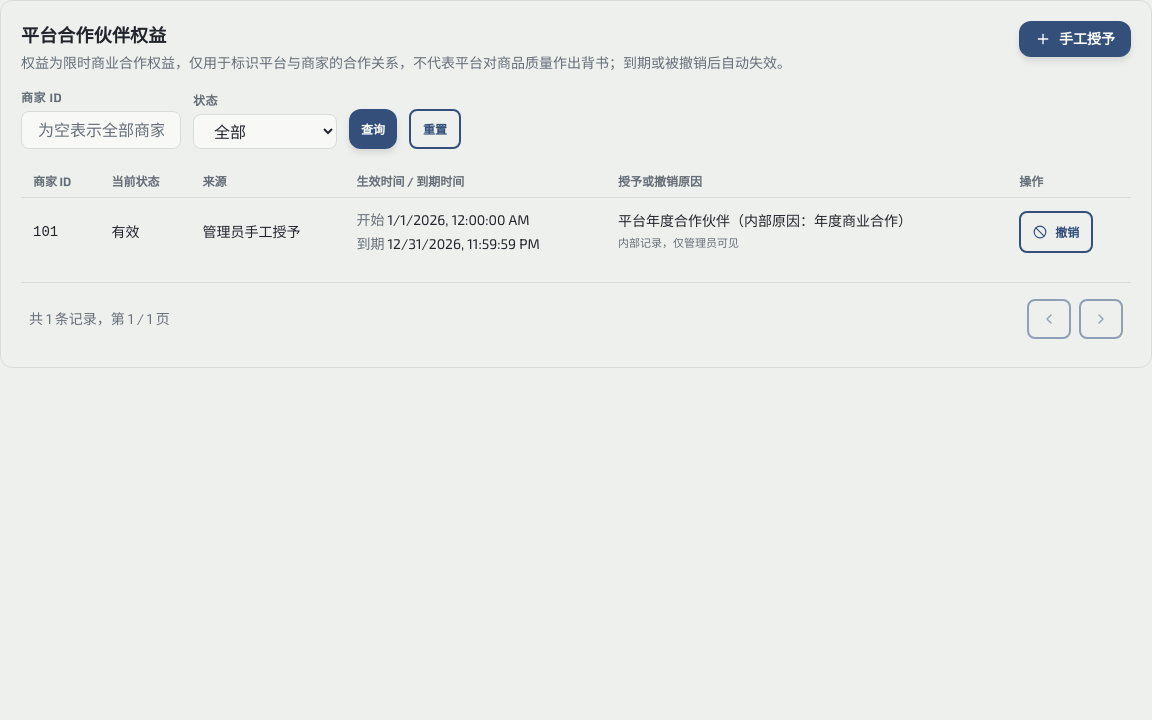
Test case: AdminEntitlementManager › requires a revoke reason, prevents duplicate revokes, and refreshes after success
Expected: the table named "商家权益列表" is shown, [21,165,1131,266]
Click the button with aria-label "撤销商家 101 的权益": (1056, 232) [1019,211,1093,253]
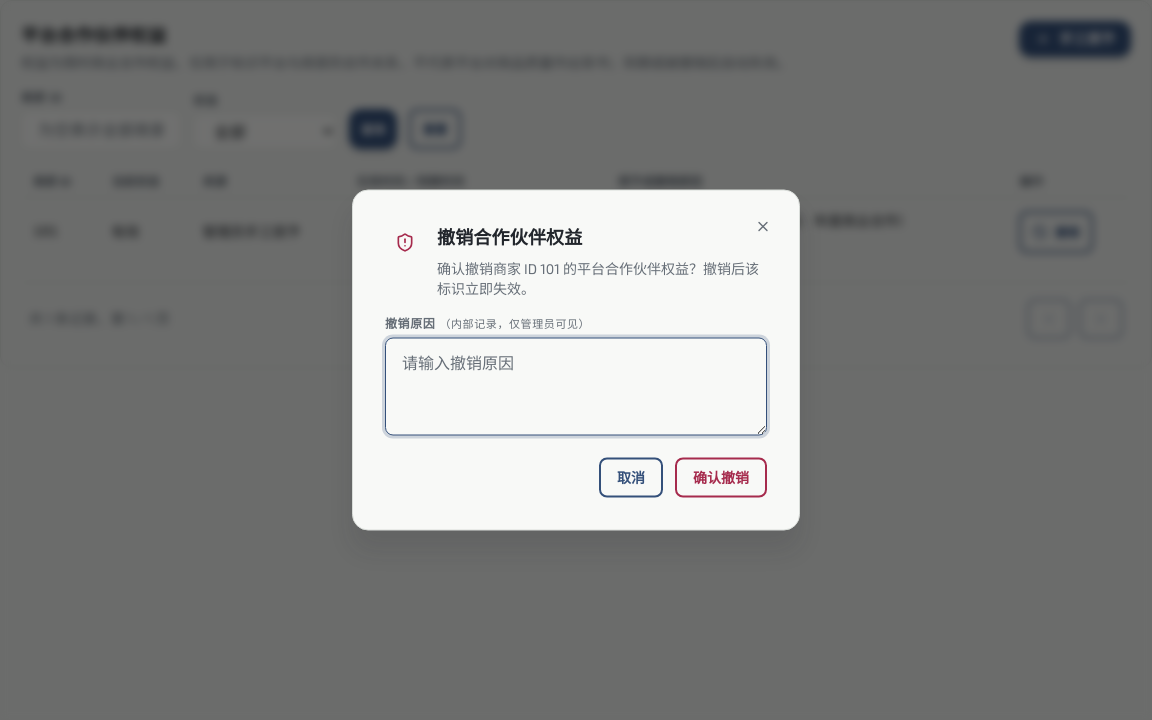
Click the button "确认撤销": (721, 478) [675,458,767,498]
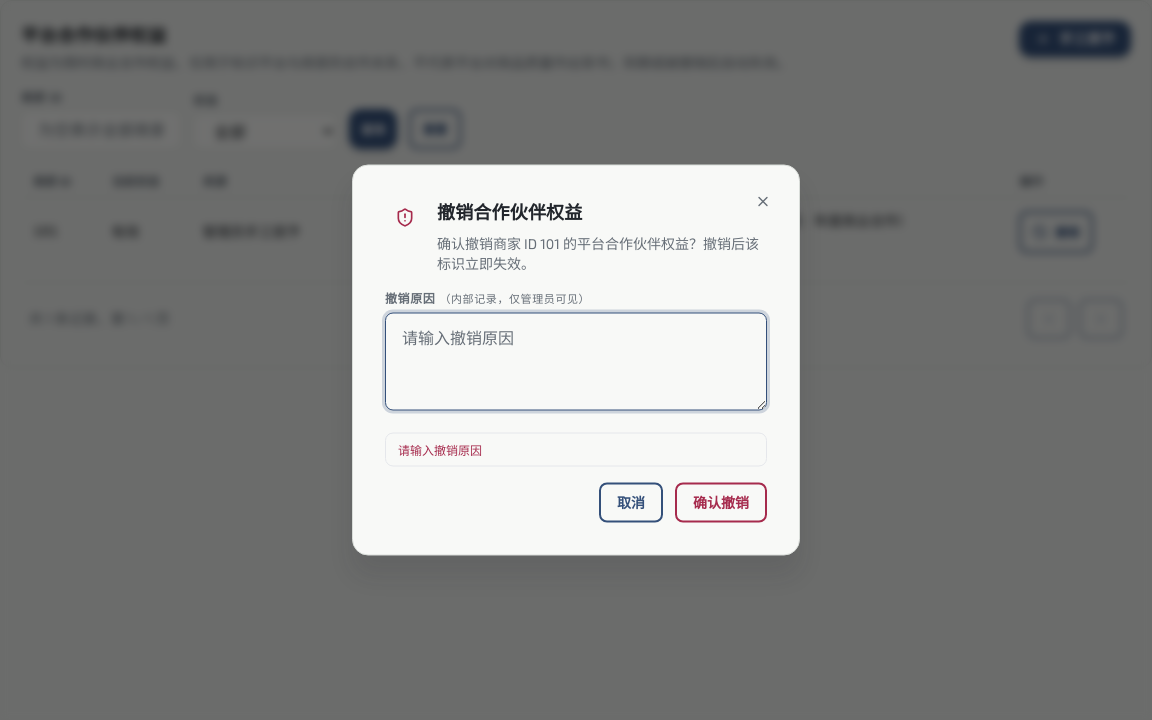
Expected: the message reads "请输入撤销原因", [398,442,482,456]
In the text box labelled "撤销原因": (576, 362) [385,312,767,410], type "  合作计划结束  "
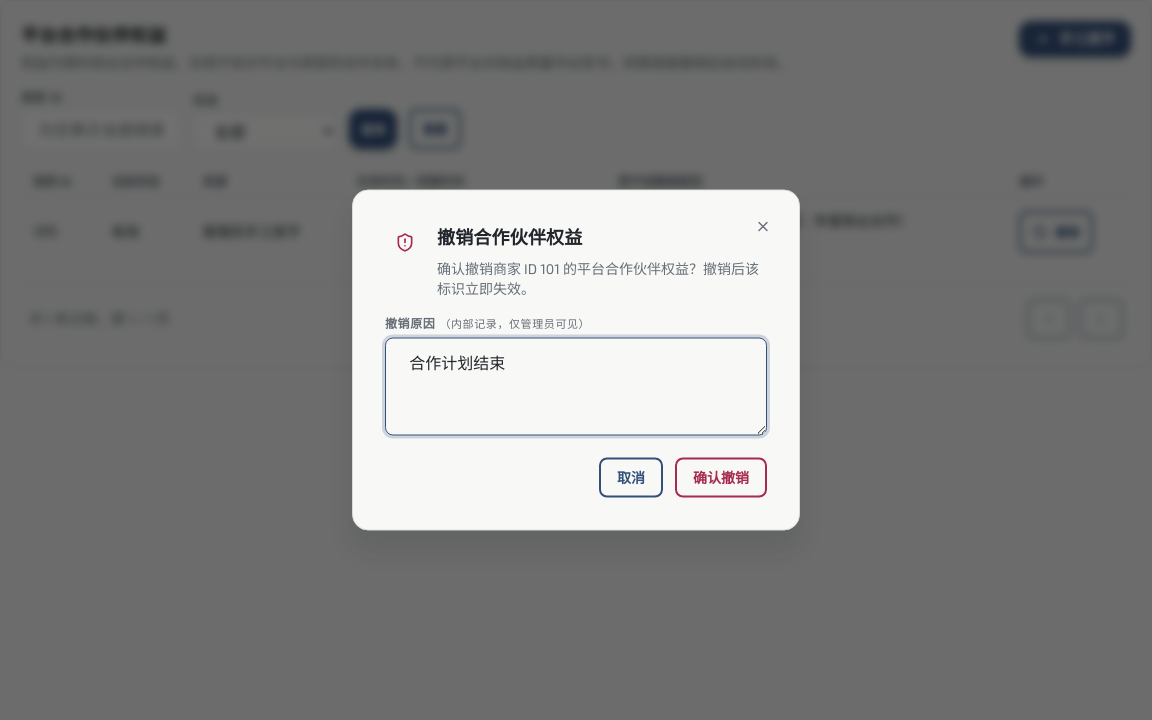
Click the button "确认撤销": (721, 478) [675,458,767,498]
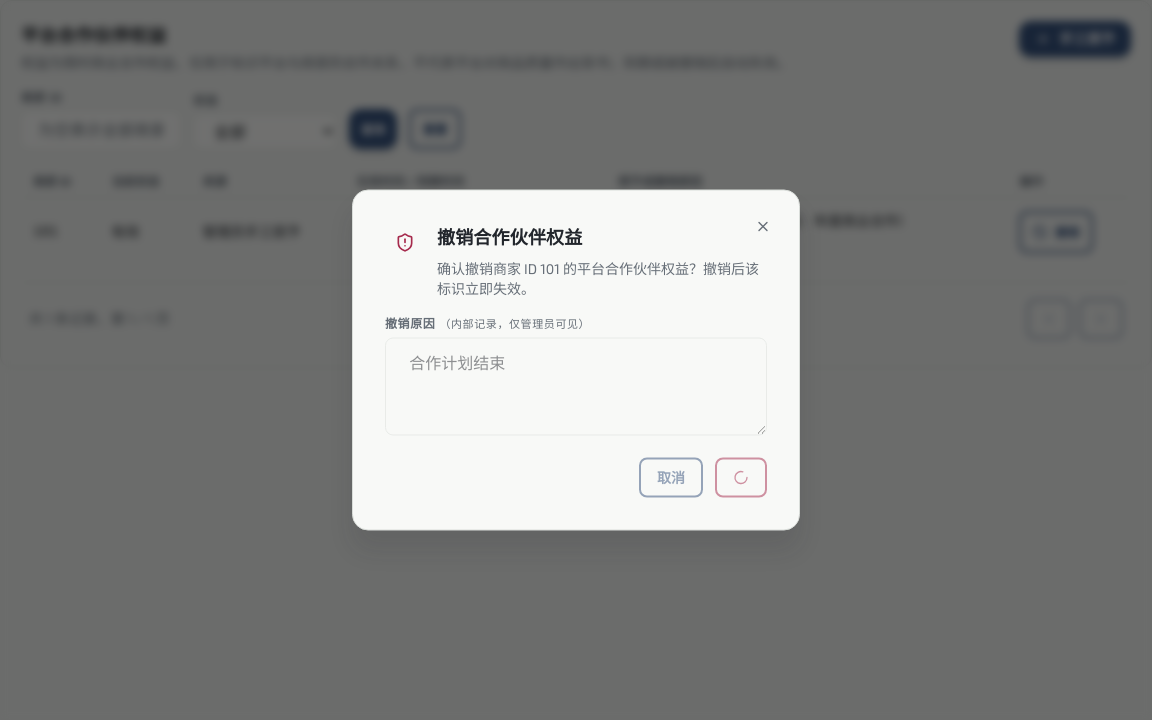
Expected: the button named "确认撤销" is disabled
Click the button named "确认撤销": (741, 478) [715,458,767,498]
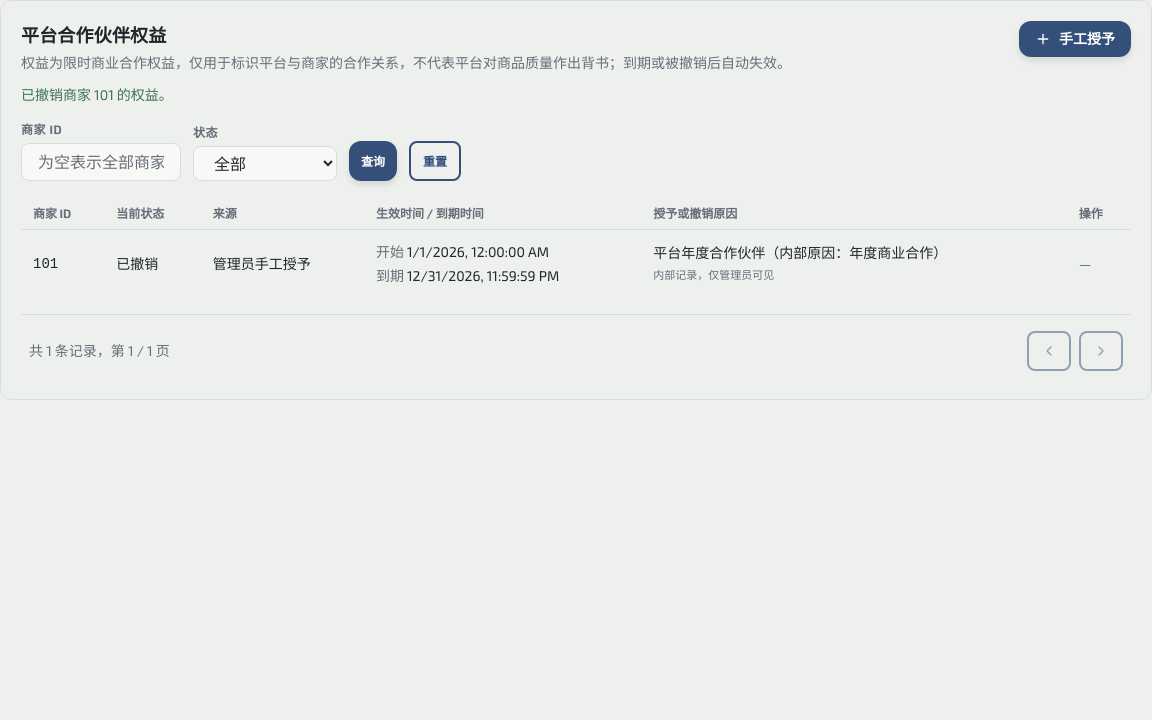
Expected: the dialog is gone
Expected: the text "已撤销商家 101 的权益。" is shown, [21,86,173,103]
